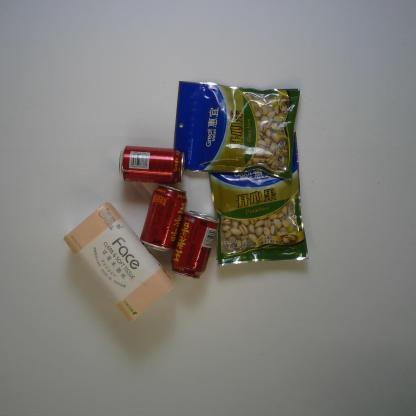Dried Fruit: (170, 79, 303, 188), (205, 131, 310, 268)
Drink: (141, 178, 188, 254), (172, 208, 218, 282), (116, 144, 186, 189)
Tissue: (58, 200, 176, 328)
